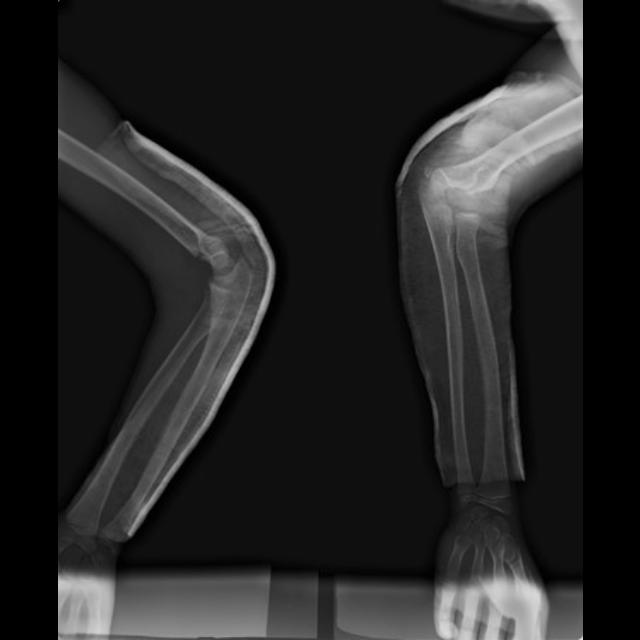Fracture: (465, 185, 498, 201), (190, 244, 213, 262)
